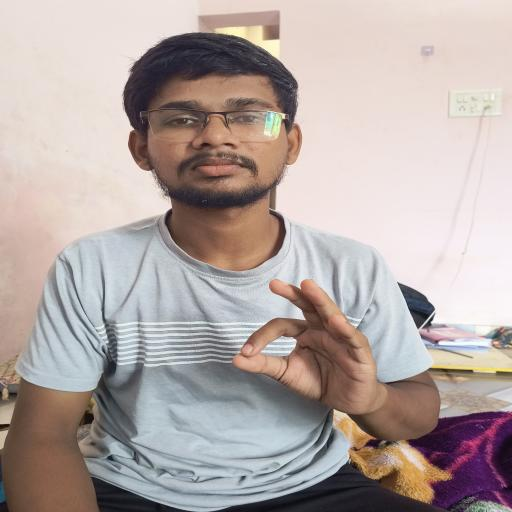Previous: (216, 266, 404, 430)
